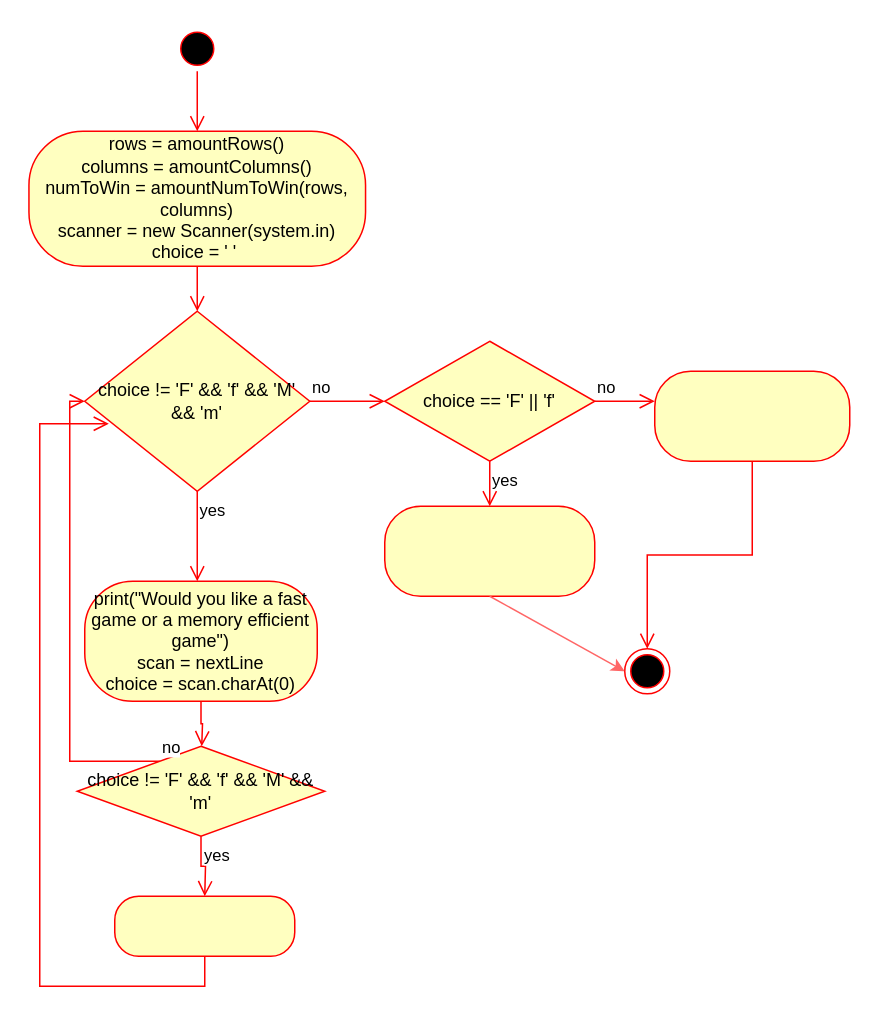
Some shapes in this 876 by 1028 pixel diagram are drawn without their labels. The shapes that lost their labels are listed below. From the top down, each one's box as (x1, y1, x2, y2) in pixels, then its label:
(653, 370, 850, 461): return GameBoardMem(rows, columns, numToWin)
(383, 505, 595, 596): return GameBoard(rows,columns, numToWin)
(113, 895, 295, 956): print("Please enter F or M")
